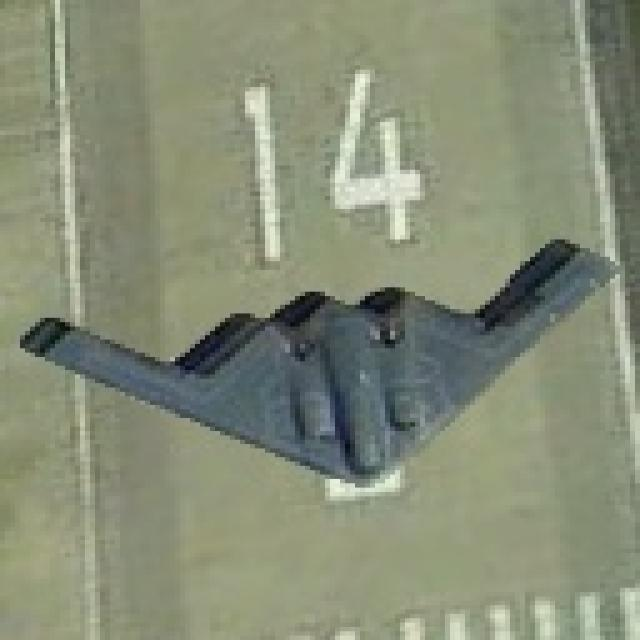B-2_TopDown: (15, 230, 625, 500)
